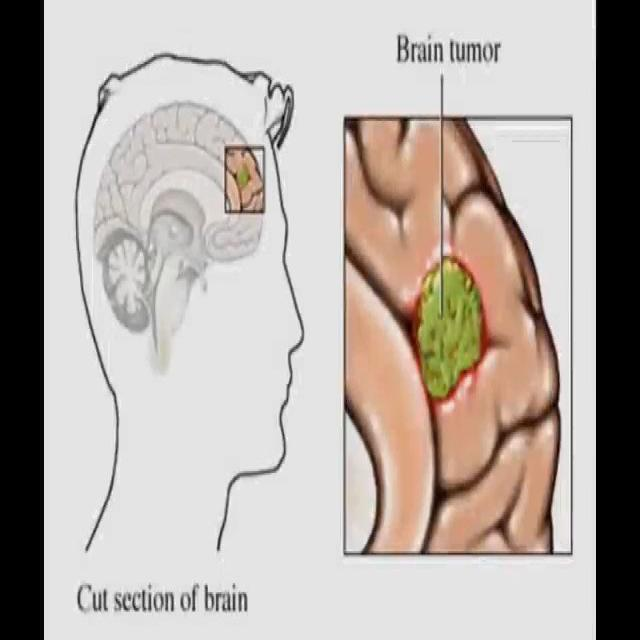tumor: (406, 225, 488, 411)
